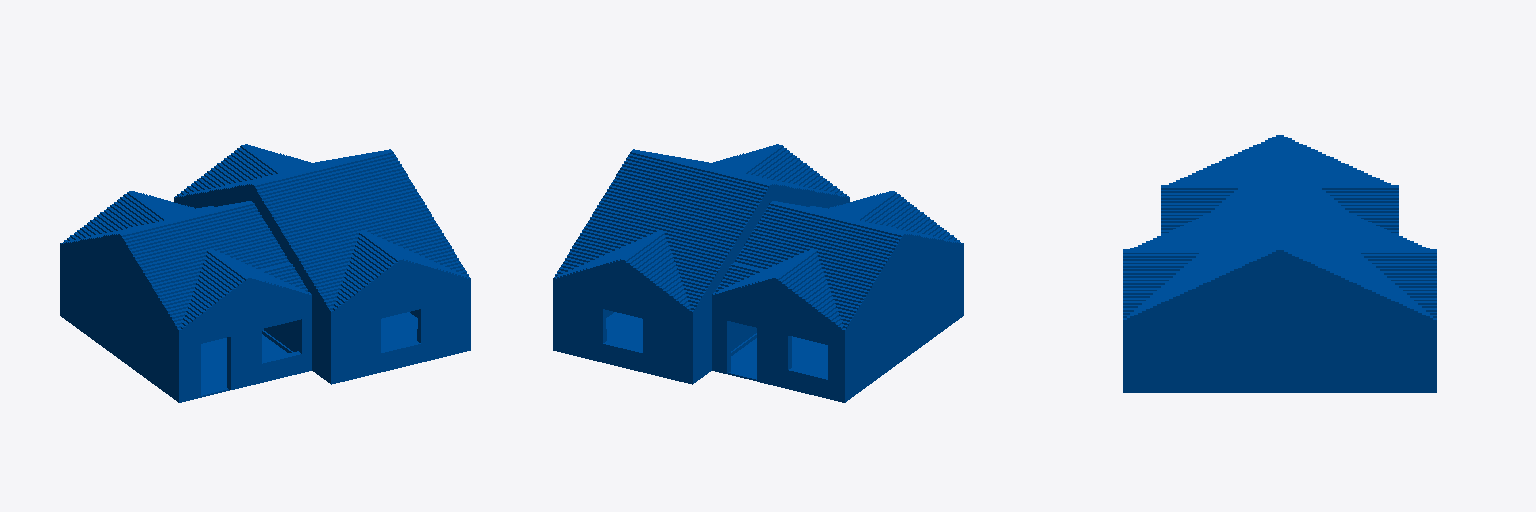
The picture shows the model from 3 angles: view 1: azimuth 30°, elevation 25°; view 2: azimuth 150°, elevation 25°; view 3: azimuth 270°, elevation 25°; orthographic projection.
Visible parts, largest first — view 1: object 1; view 2: object 1; view 3: object 1.
Part boxes in pixels (bbox=[...]): object 1: bbox=[60, 144, 470, 402]; object 1: bbox=[553, 144, 963, 402]; object 1: bbox=[1123, 135, 1436, 392].
Size of the model in its own units: 16.4 by 8.3 by 16.4.
1 materials, 1 textured.